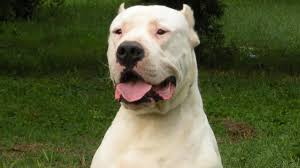dog: (90, 1, 223, 167)
